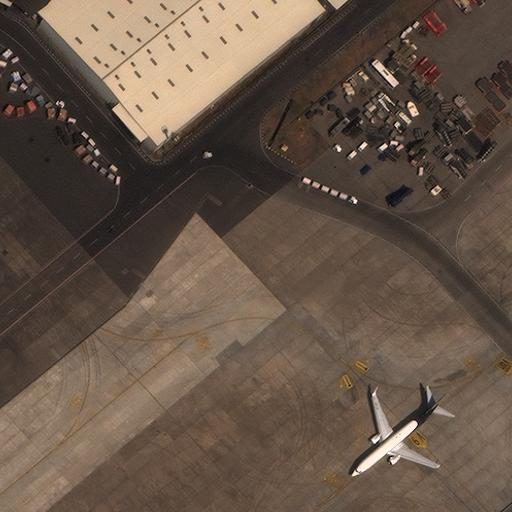Medium Civil Transport: (351, 393, 445, 475)
